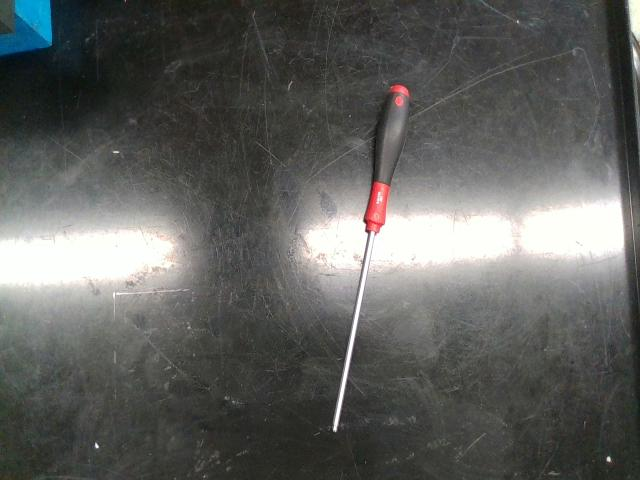Screwdriver: (332, 85, 410, 431)
